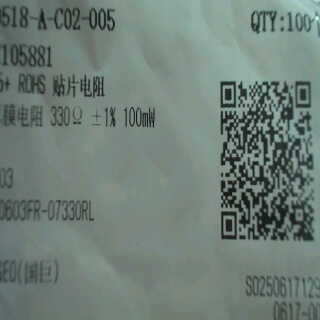330R: (49, 103, 83, 129)
